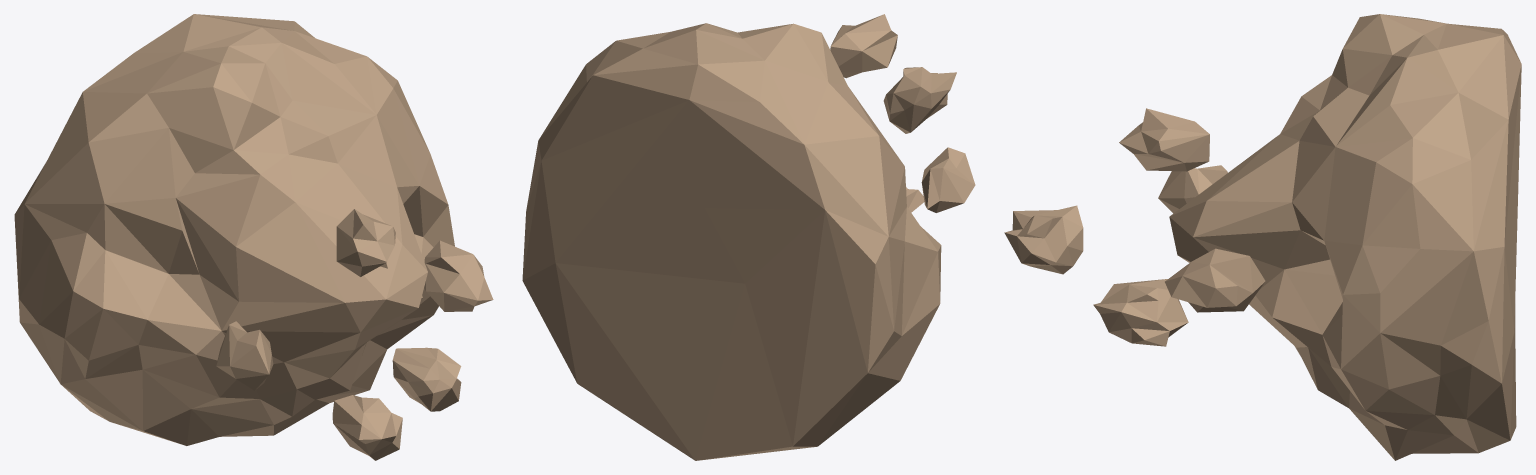
Rendered from AstroidTile_3.fbx.
3 renders of one model, left to right at view 1: azimuth 30°, elevation 25°; view 2: azimuth 150°, elevation 25°; view 3: azimuth 270°, elevation 25°, orthographic.
Visible parts, largest first — view 1: Astroid.002; view 2: Astroid.002; view 3: Astroid.002.
Boxes of the visible parts, <box> form: Astroid.002: <box>14,14,493,460</box>; Astroid.002: <box>522,14,975,460</box>; Astroid.002: <box>1004,14,1521,460</box>.
Size of the model in its own units: 0.9715 by 0.982 by 1.16.
